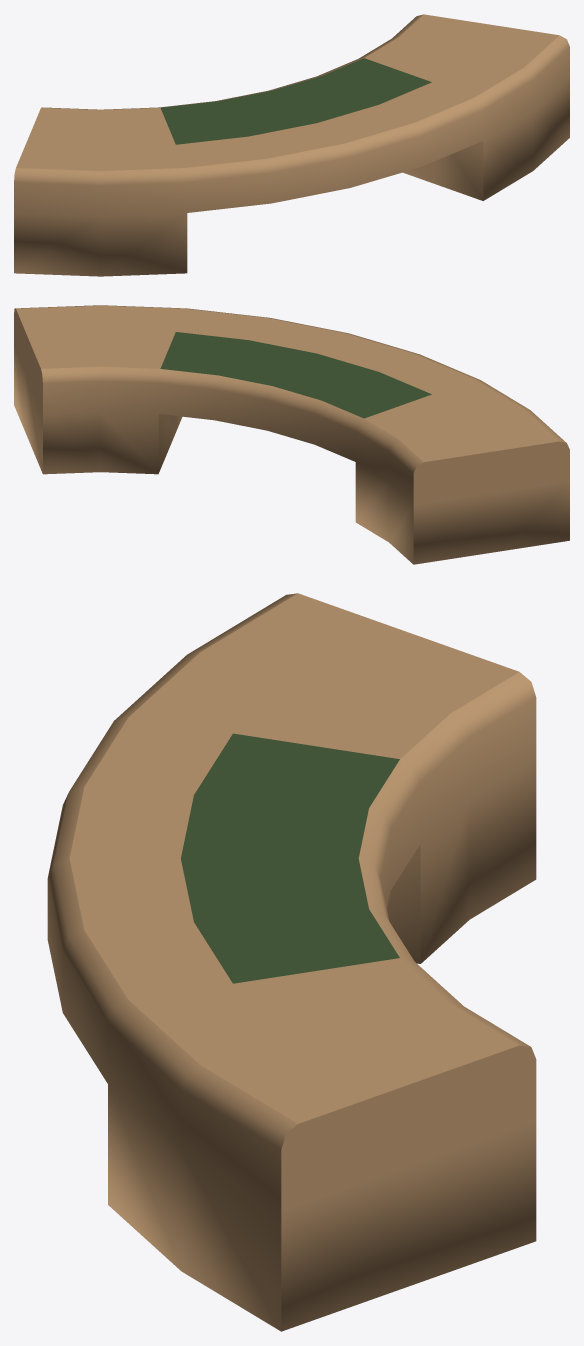
File: Mesh_Desk.fbx
The picture shows the model from 3 angles, top to bottom: view 1: azimuth 30°, elevation 25°; view 2: azimuth 150°, elevation 25°; view 3: azimuth 270°, elevation 25°; orthographic projection. The views are drawn at different scales.
Visible parts, largest first — view 1: Mesh_Desk; view 2: Mesh_Desk; view 3: Mesh_Desk.
Boxes of the visible parts, box(x1,y1,x2,y2) form: Mesh_Desk: box(14, 14, 569, 276); Mesh_Desk: box(14, 305, 569, 564); Mesh_Desk: box(47, 593, 536, 1331).
Bounding box in the file's own units: 771 × 134 × 294.
